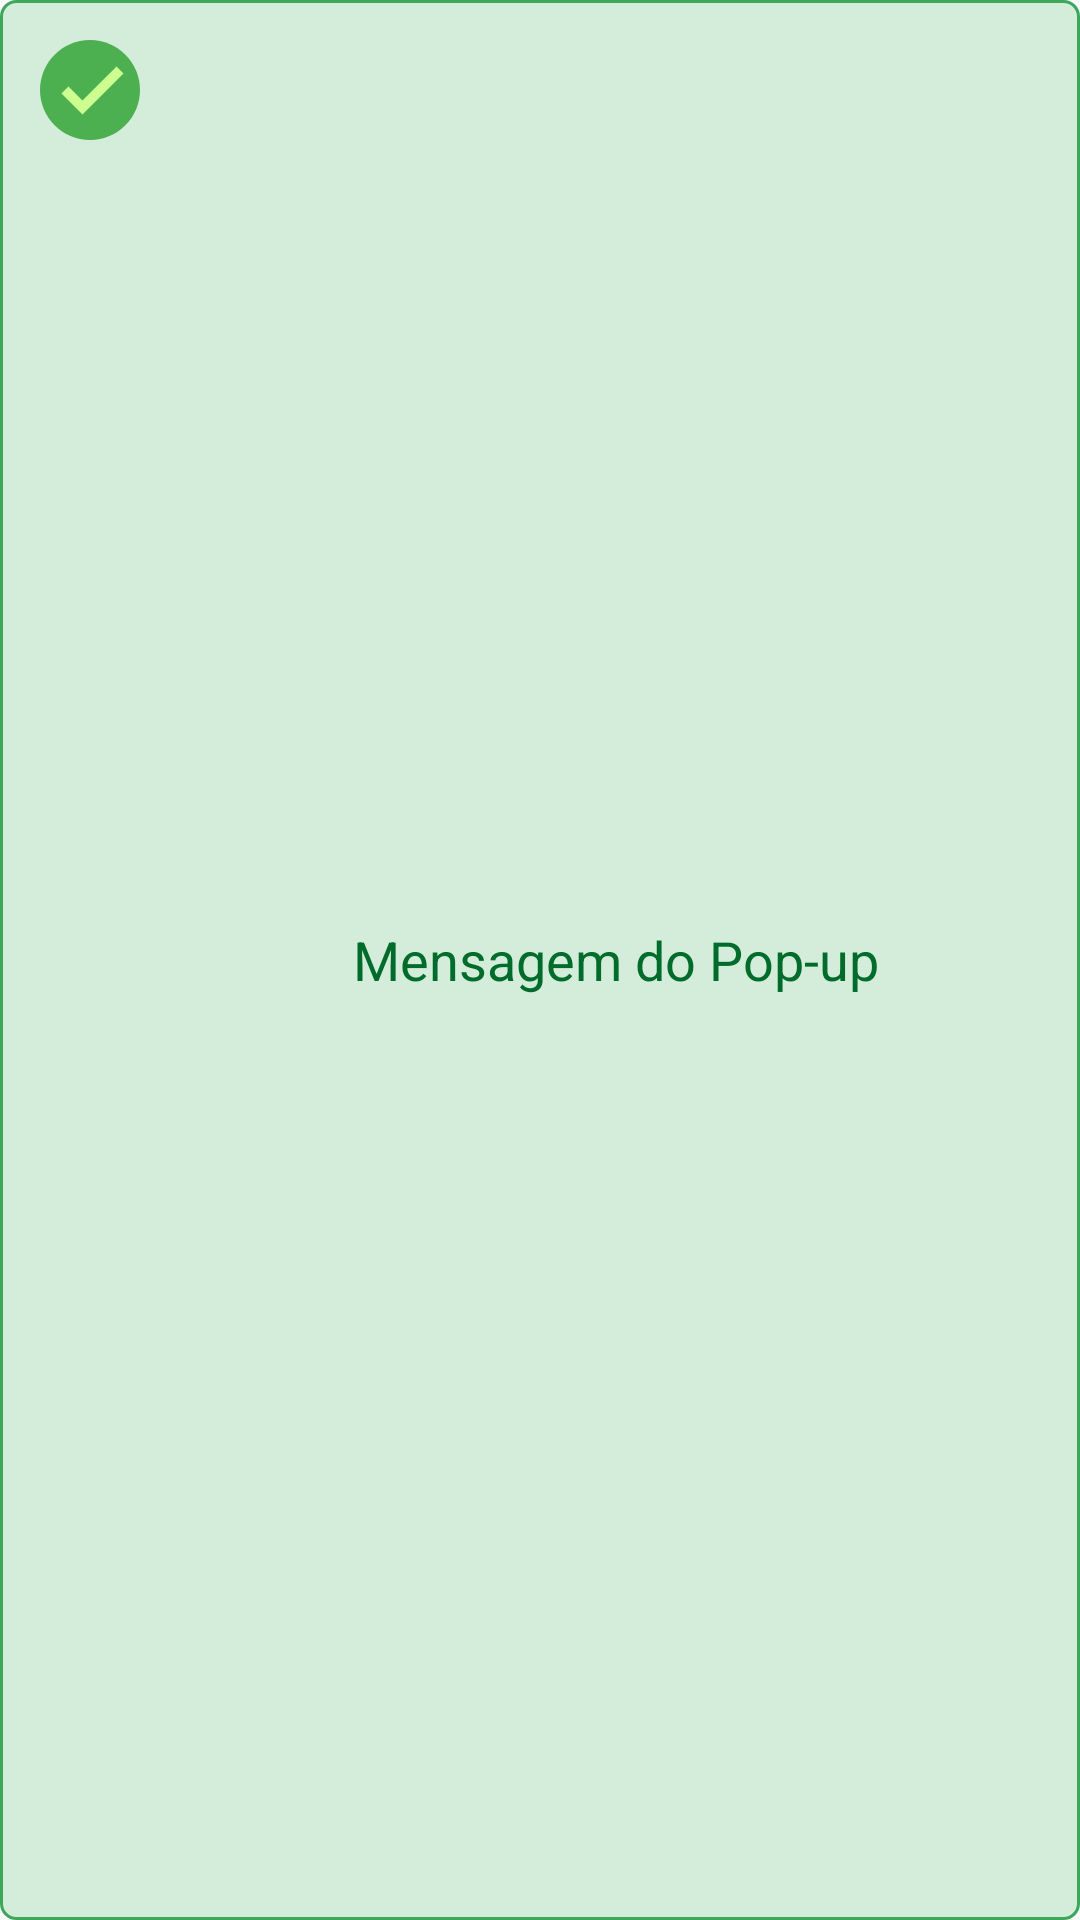

Named icons in this screenshot (1080px×1920px) and their bounding boxes, bbox=[x1, y1, x2, y2]:
sucesso: bbox=[40, 40, 140, 140]
